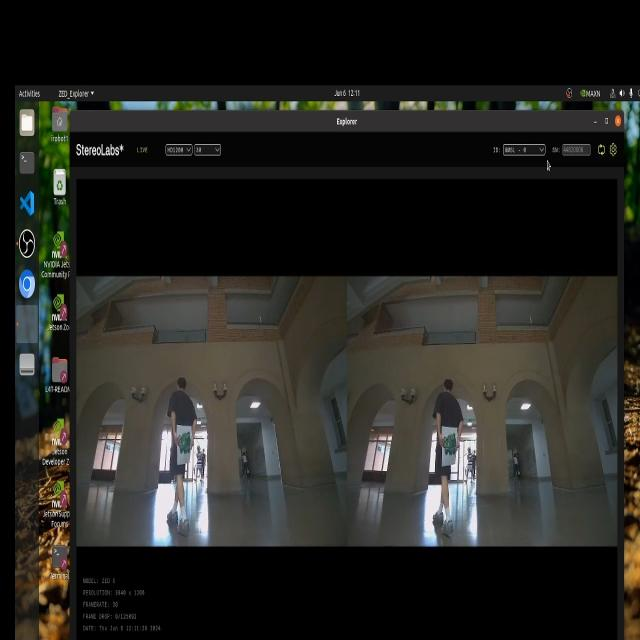green: (177, 428, 194, 465), (440, 434, 463, 460)
